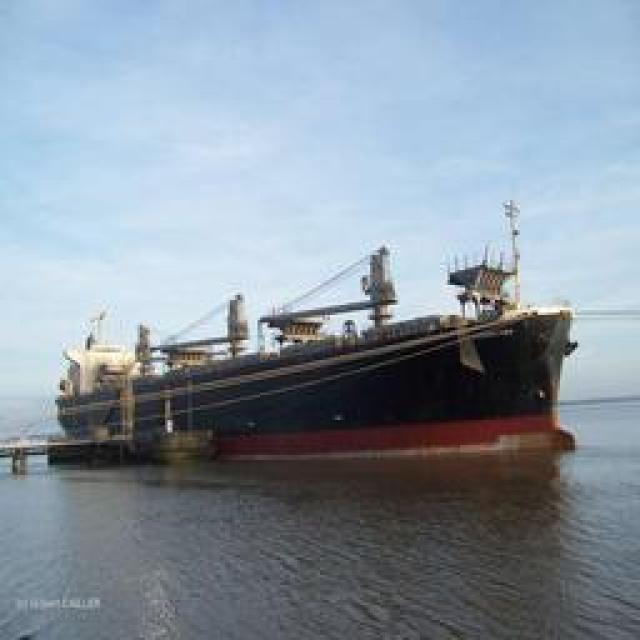CIV_Ship: (55, 313, 575, 479)
